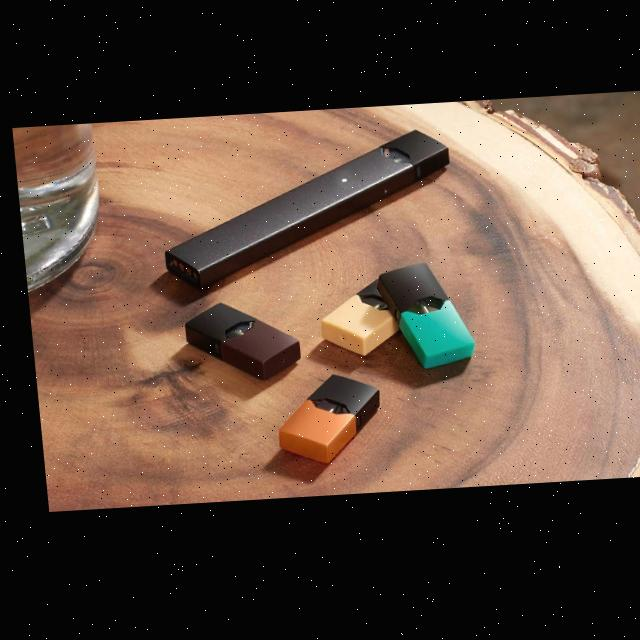vape: (149, 131, 455, 294)
